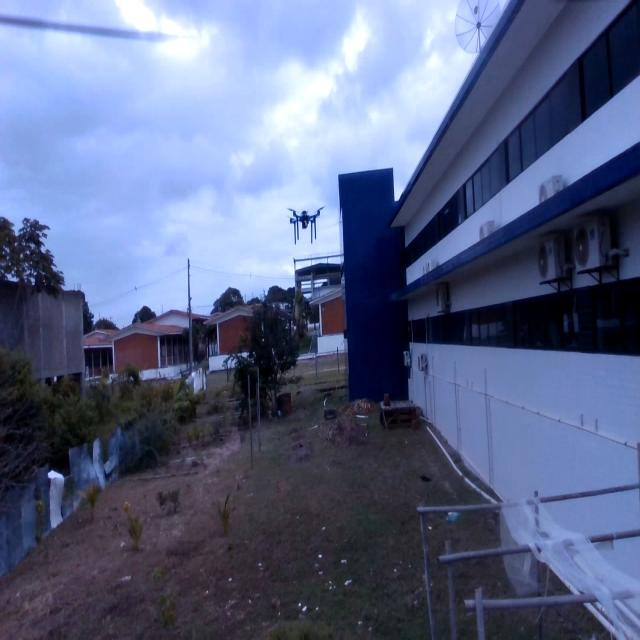-uav-: (280, 194, 328, 252)
